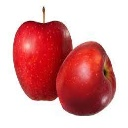apple: (56, 40, 117, 116)
